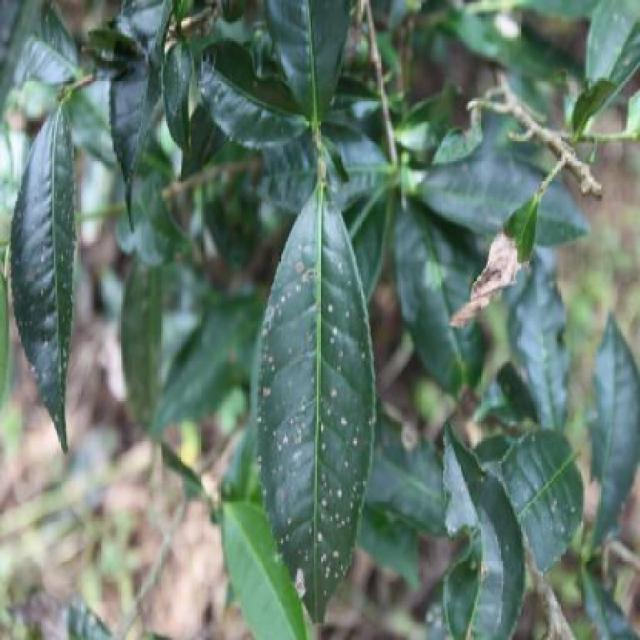Leaf rust of tea: (254, 216, 375, 618)
